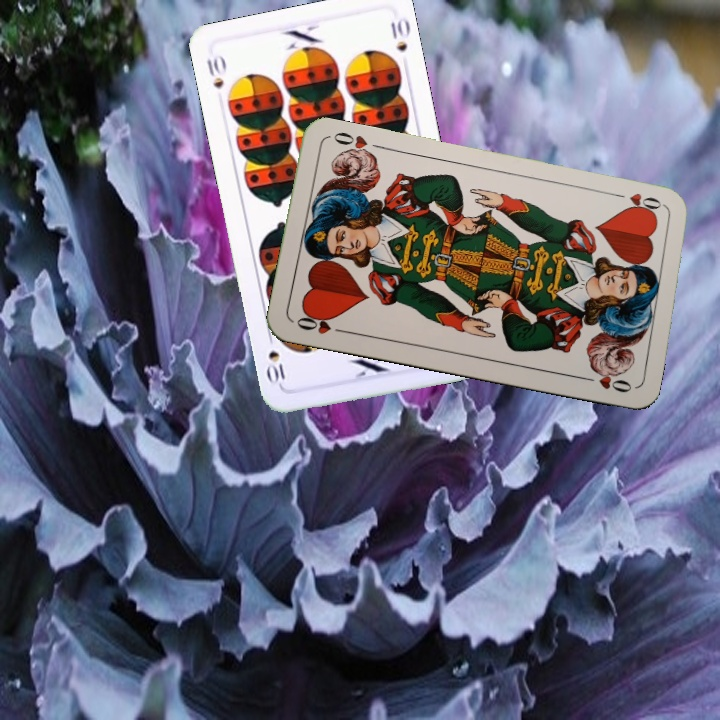HO: (292, 309, 349, 337), (622, 189, 670, 216)
S10: (203, 50, 229, 92)
